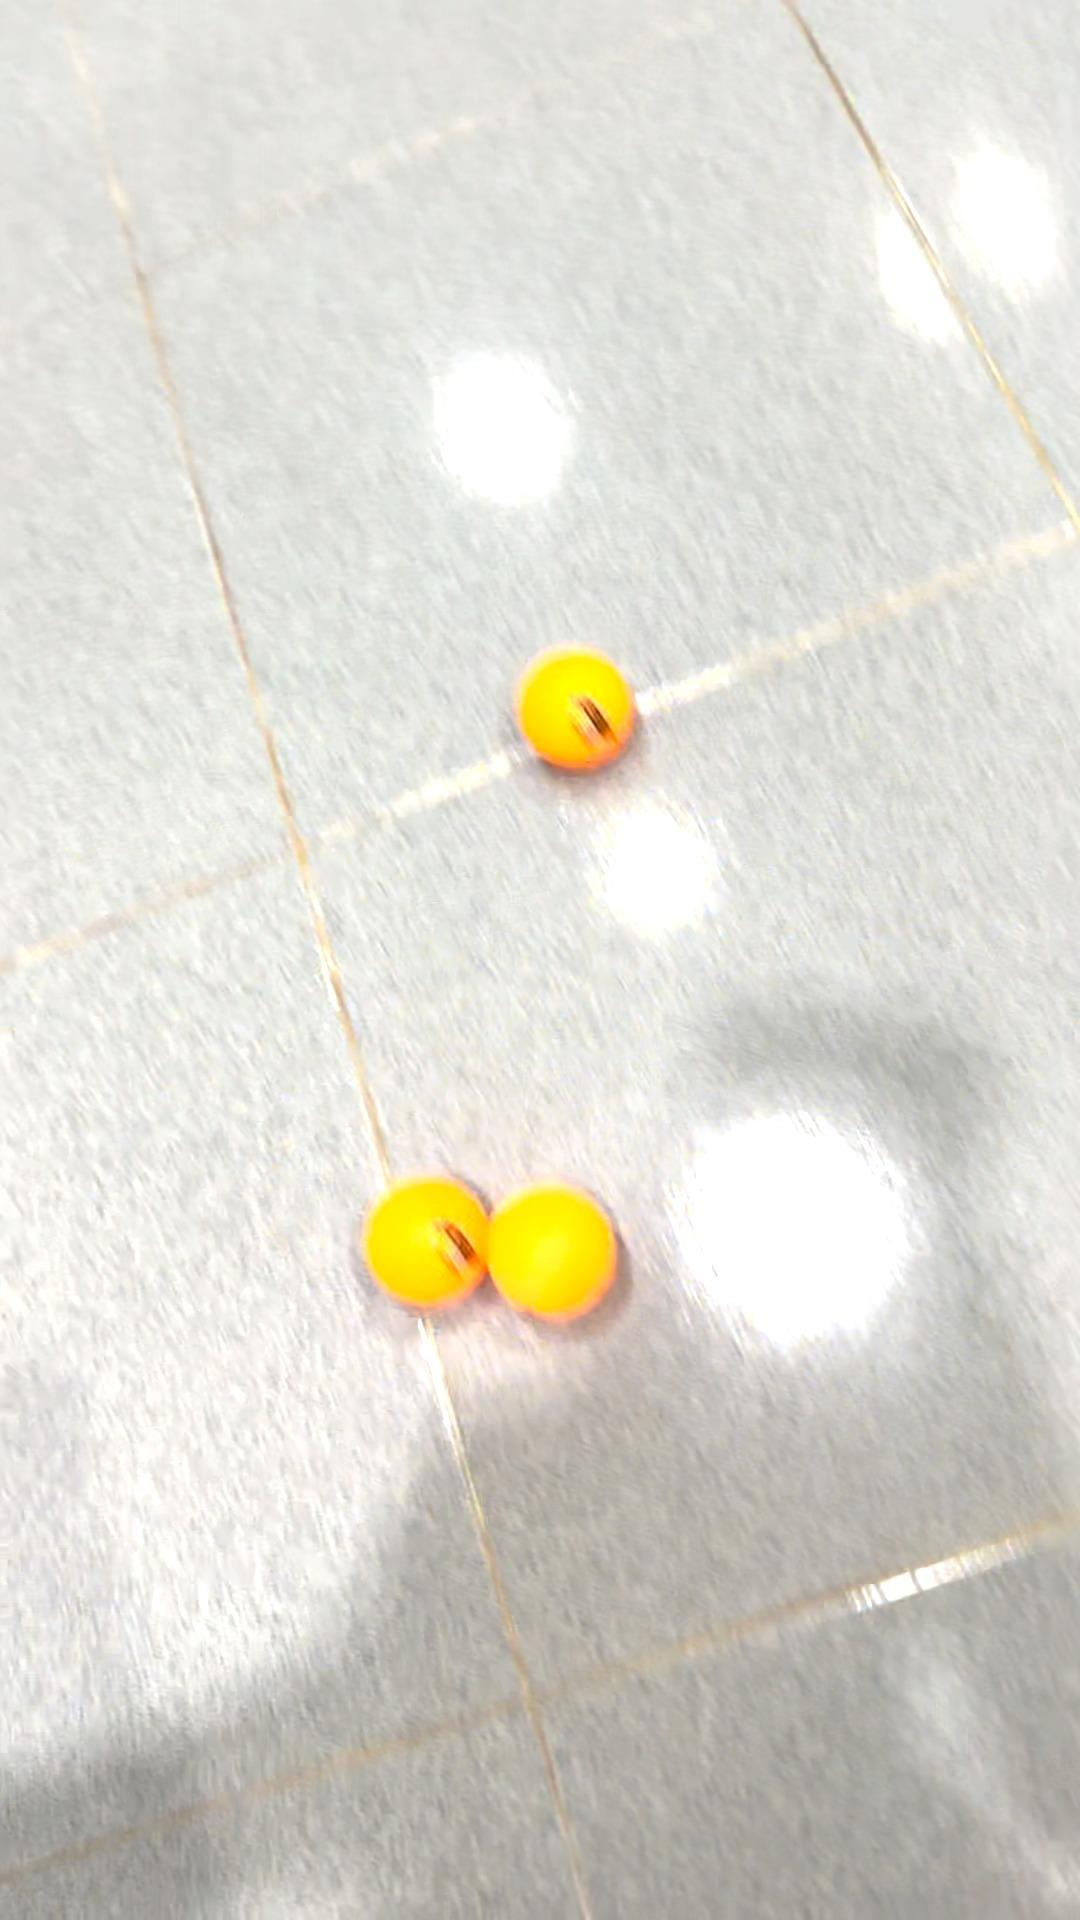oball: (351, 1162, 484, 1331), (488, 1178, 625, 1331), (508, 645, 650, 783)
